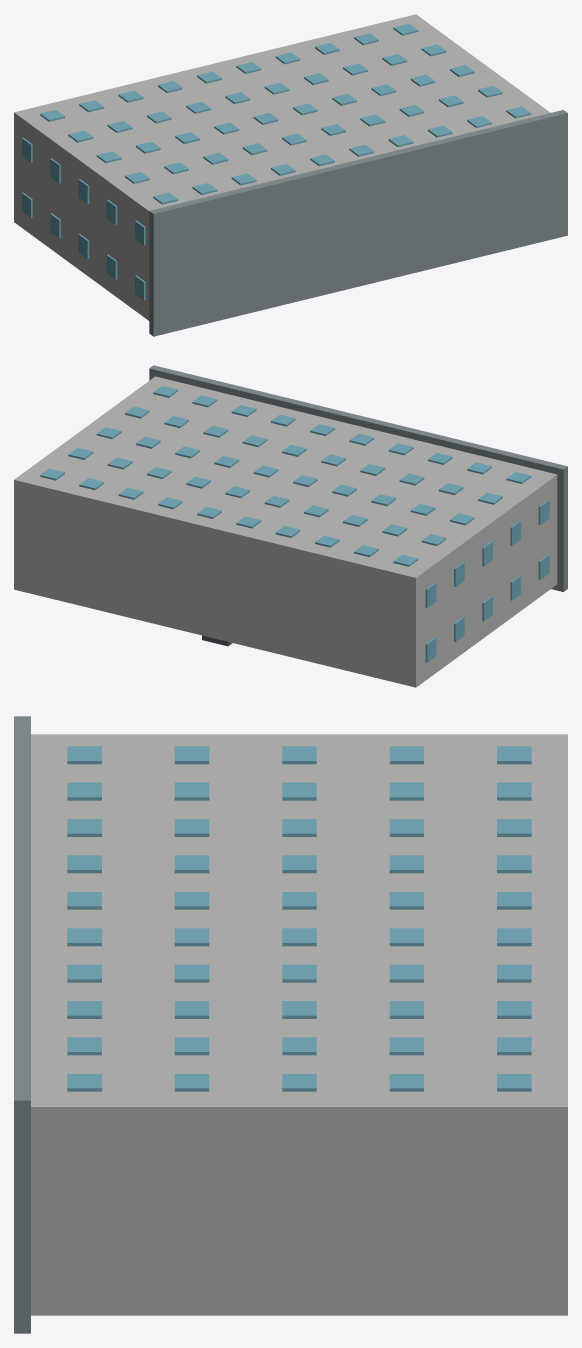
The model's file is panel_5_story_long.glb.
3 renders of one model, top to bottom at view 1: azimuth 30°, elevation 25°; view 2: azimuth 150°, elevation 25°; view 3: azimuth 270°, elevation 25°, orthographic. The views are drawn at different scales.
Visible parts, largest first — view 1: g0, g1; view 2: g0, g1; view 3: g0, g1.
Boxes of the visible parts, bbox=[...] form: g0: bbox=[14, 14, 550, 320]; g1: bbox=[149, 110, 567, 336]; g0: bbox=[14, 376, 557, 687]; g1: bbox=[149, 365, 567, 591]; g0: bbox=[31, 734, 567, 1315]; g1: bbox=[14, 716, 30, 1333].
Size of the model in its own units: 23.7 by 6.7 by 14.44.
